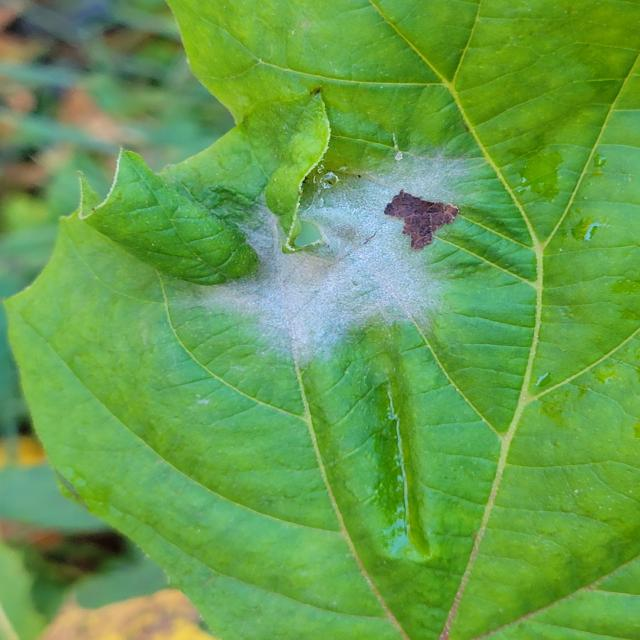powdery_mildew: (200, 157, 463, 365)
